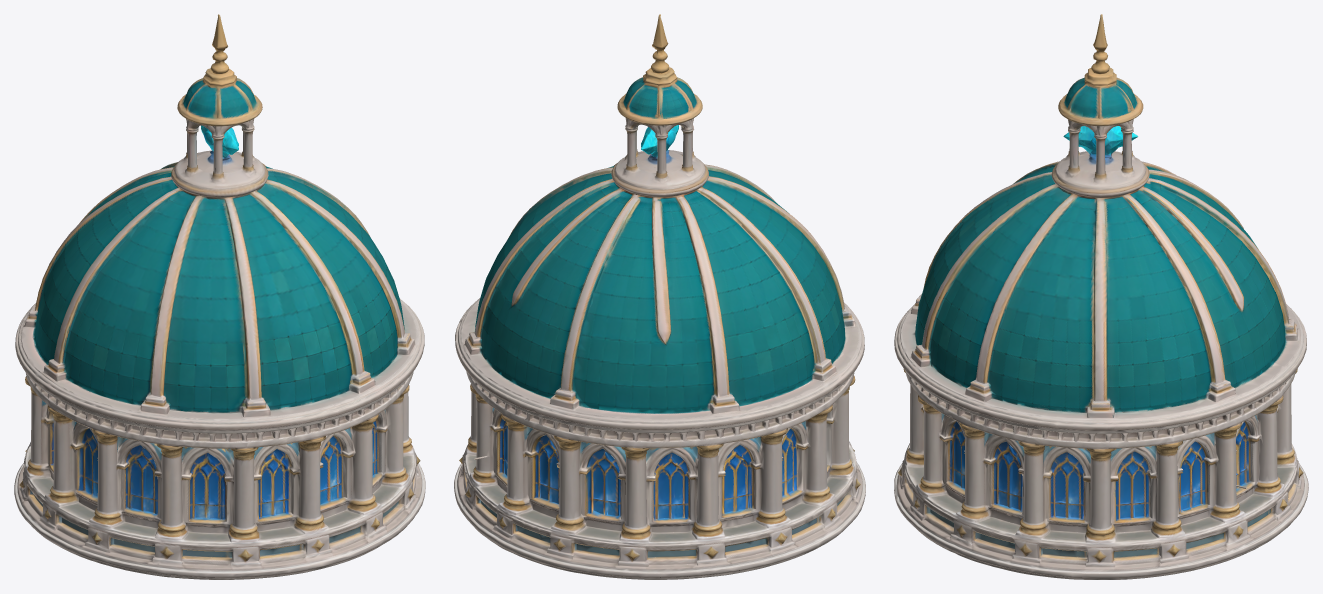
The model's file is dome.glb.
The picture shows the model from 3 angles, left to right: view 1: azimuth 30°, elevation 25°; view 2: azimuth 150°, elevation 25°; view 3: azimuth 270°, elevation 25°; orthographic projection.
Parts seen in each view (by area): view 1: tripo_node_5f3c1325-08ac-42d9-8063-7b7d4e616026; view 2: tripo_node_5f3c1325-08ac-42d9-8063-7b7d4e616026; view 3: tripo_node_5f3c1325-08ac-42d9-8063-7b7d4e616026.
Part boxes in pixels (<box>): tripo_node_5f3c1325-08ac-42d9-8063-7b7d4e616026: <box>14,14,425,579</box>; tripo_node_5f3c1325-08ac-42d9-8063-7b7d4e616026: <box>454,14,865,579</box>; tripo_node_5f3c1325-08ac-42d9-8063-7b7d4e616026: <box>894,14,1308,579</box>.
Size of the model in its own units: 0.7574 by 0.9821 by 0.759.
Materials: 1 (1 with a texture image).
